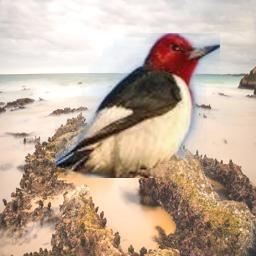Woodpecker: (55, 33, 220, 178)
